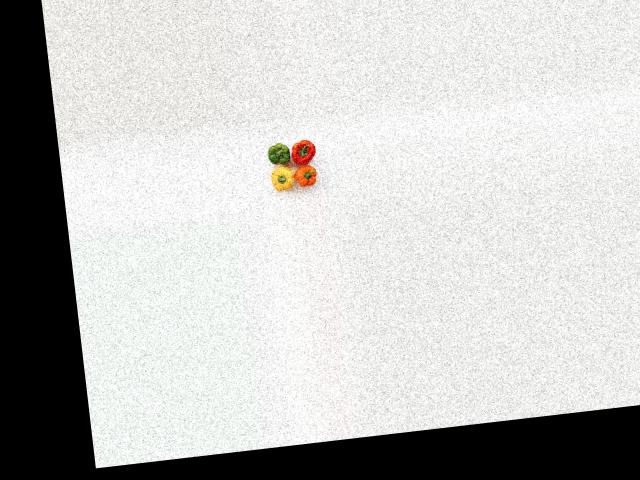bell_pepper: (259, 140, 296, 169)
